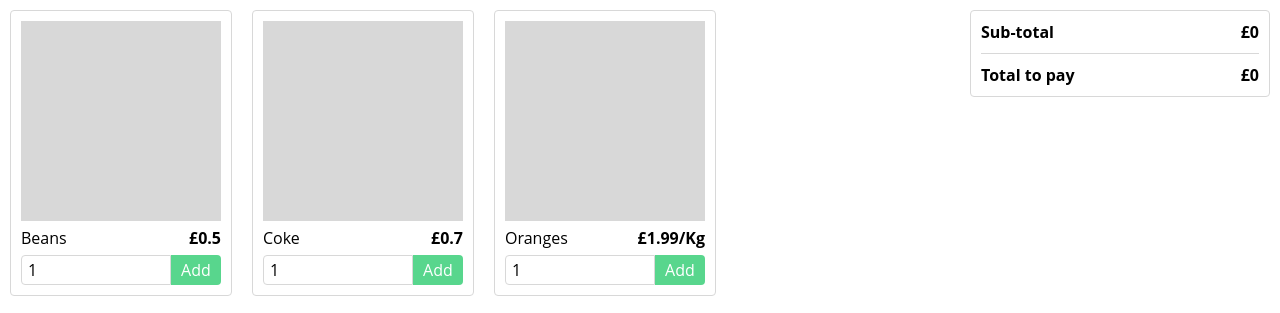
Test: End to end test › Should add a product
Click the button with test id "add-product" below "Beans". click: (196, 270)
box: [171,255,221,285]
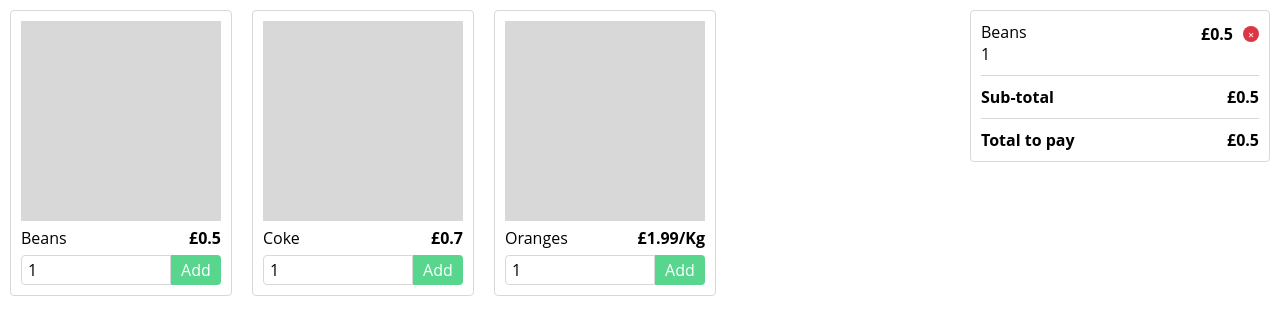
Expected: the text "£0.5" in the row of "Sub-total" is shown, [1227,86,1259,108]
Expected: the text "£0.5" next to "Total to pay" is shown, [1227,129,1259,151]
